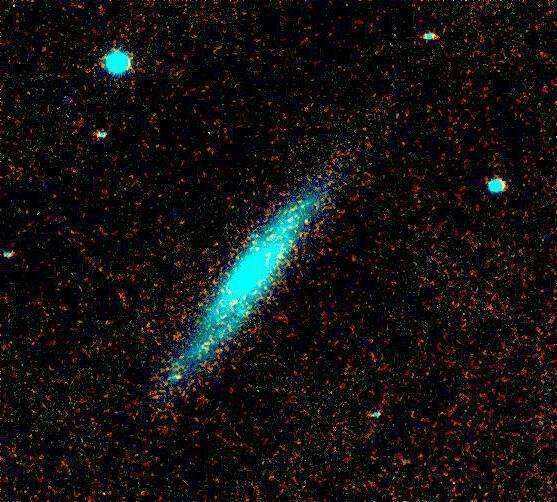star: (162, 318, 192, 348)
